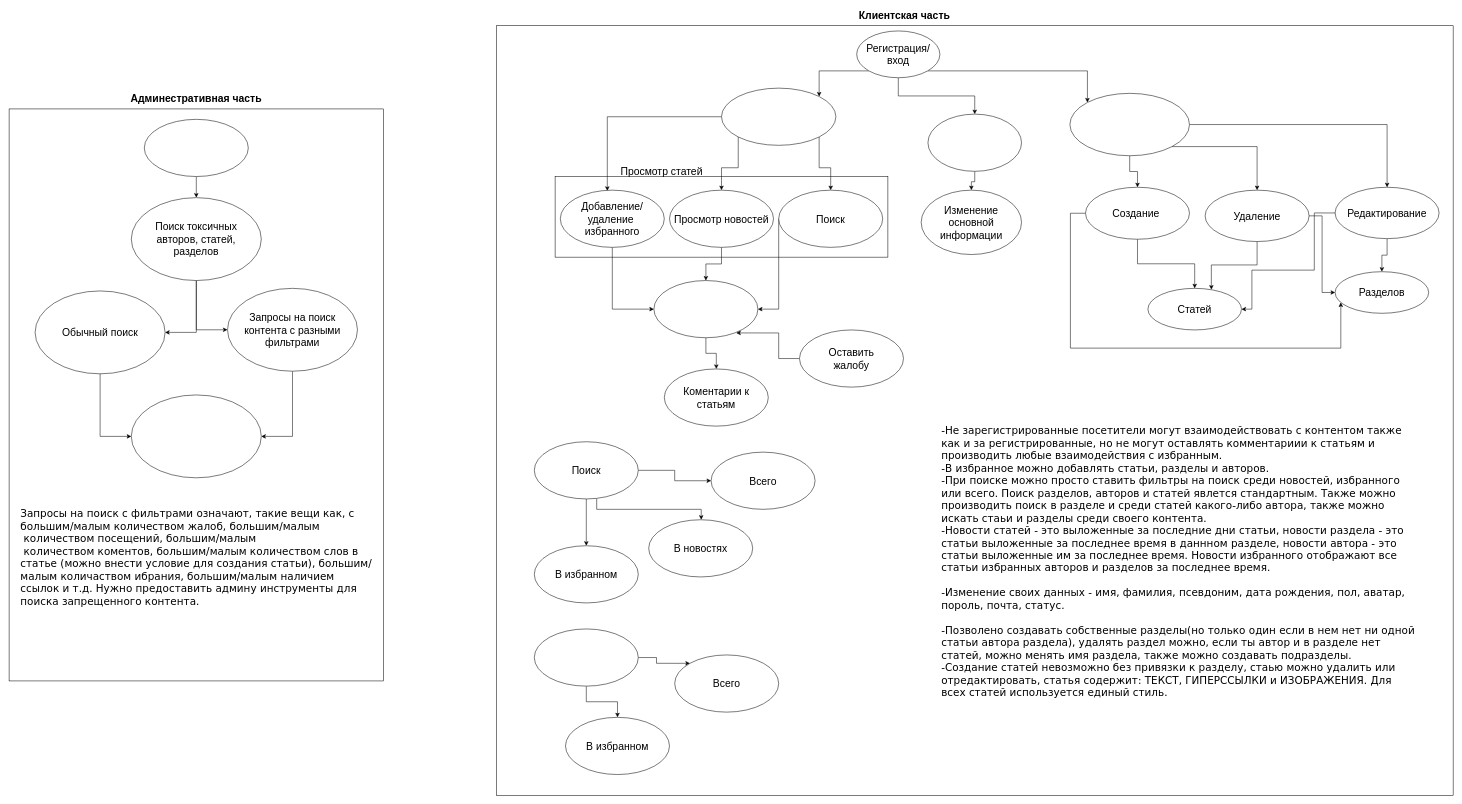
The diagram is 1462 pixels wide and 804 high, and some of its shapes have lost their labels. The centre of each missing label's shape, as x and y in pixels:
Бан автора, удаление статьи и раздела со всеми подразделами: the point at 196,436
Взаимодействие со своим контентом: the point at 1129,124
Взаимодействие со сторонним контентом: the point at 778,116
Вход: the point at 196,148
Новости: the point at 586,657
Редактирование профиля: the point at 974,142
Статей, Авторов, Разделов: the point at 705,309
